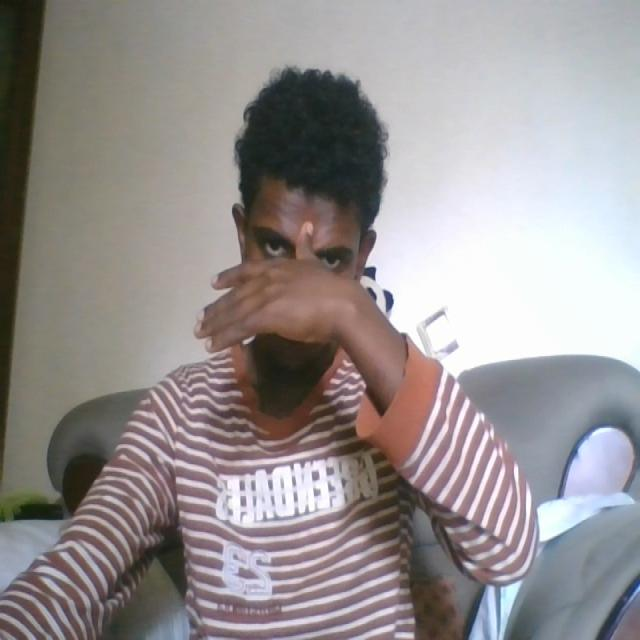abat: (188, 215, 376, 358)
